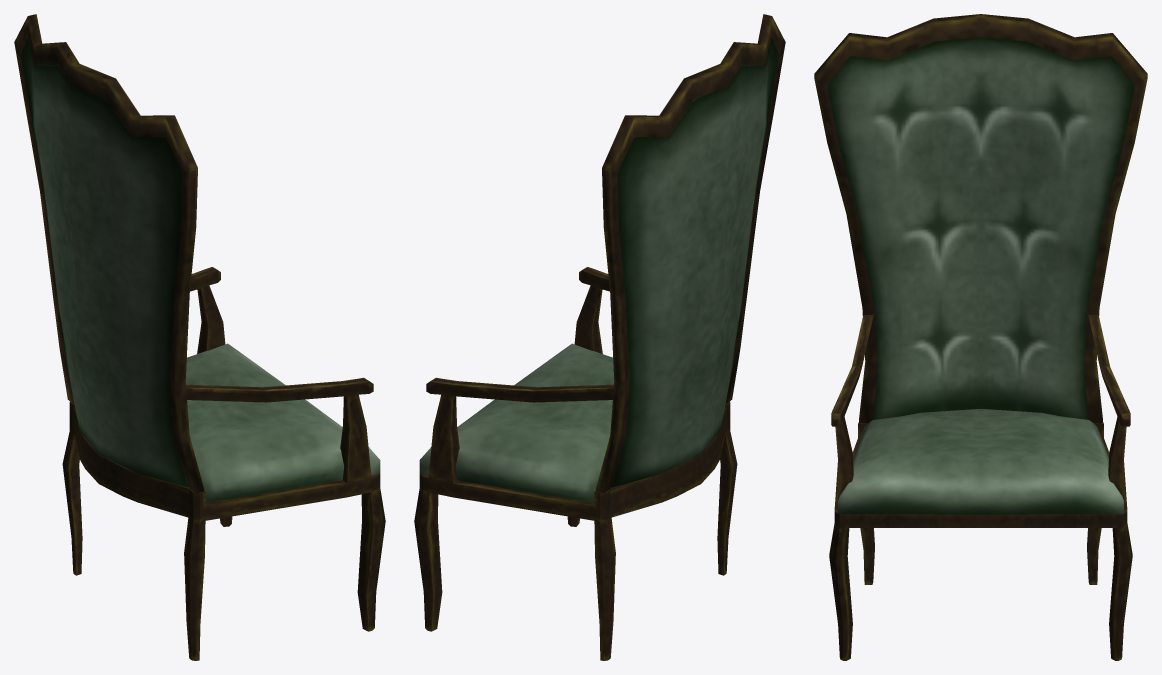
The model's file is Big Office Chair.fbx.
3 renders of one model, left to right at view 1: azimuth 30°, elevation 25°; view 2: azimuth 150°, elevation 25°; view 3: azimuth 270°, elevation 25°, orthographic. The views are drawn at different scales.
Parts seen in each view (by area): view 1: Big Office Chair; view 2: Big Office Chair; view 3: Big Office Chair.
Part boxes in pixels (x1,y1,x2,y2): Big Office Chair: (14, 14, 385, 660); Big Office Chair: (414, 14, 785, 660); Big Office Chair: (814, 14, 1147, 660).
Size of the model in its own units: 67.24 by 153 by 85.45.
2 materials, 2 textured.
